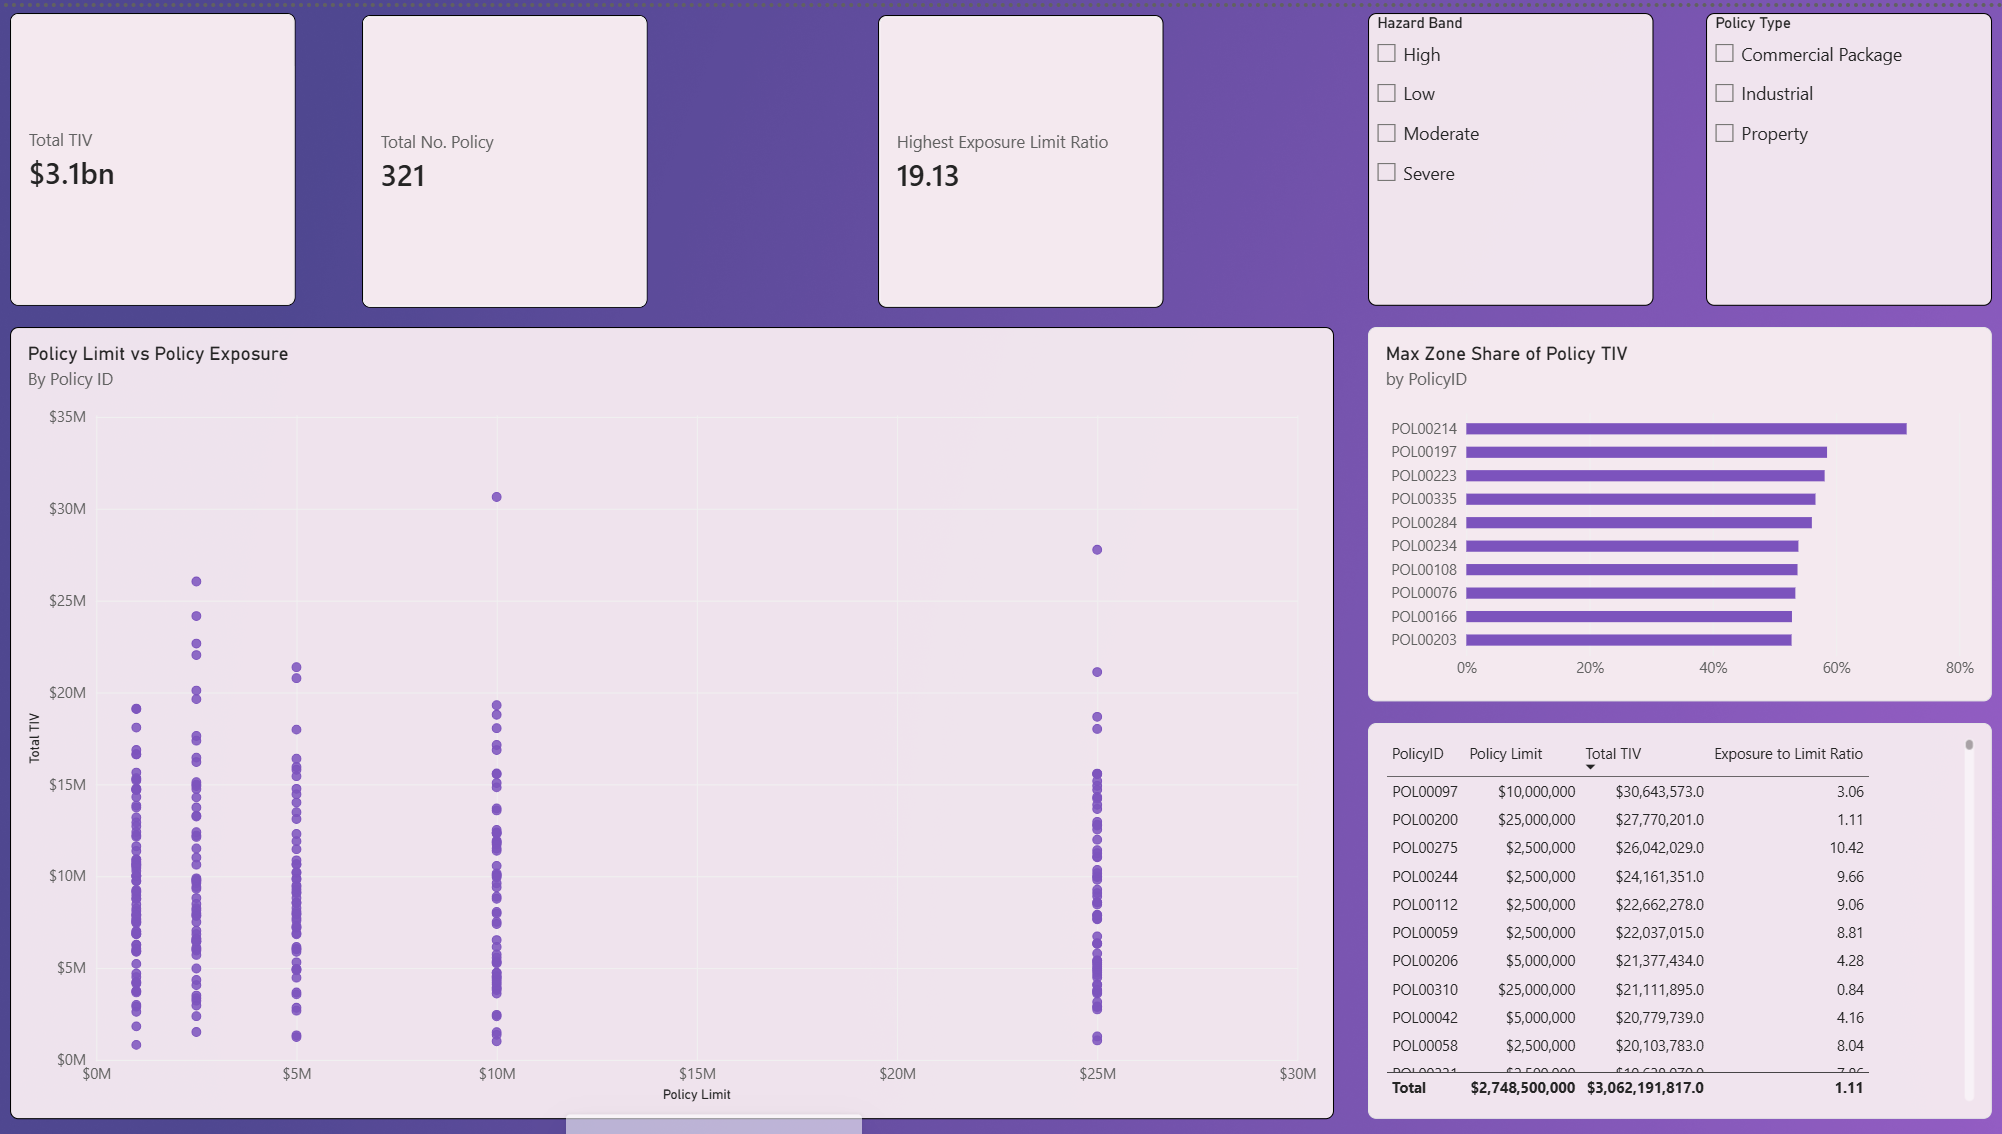

The page's visual inventory and layout, read from the dashboard file:
{"tool":"powerbi","page":{"name":"Concentration and Policy","canvas":[1920,1080],"ordinal":1},"visuals":[{"type":"cardVisual","fields":{"Data":["Exposure.Total TIV"]},"box":[9.6,6.5,273,280],"z":0},{"type":"slicer","fields":{"Values":["Hazard.HazardBand"]},"box":[1308,5.7,273,280],"z":1000},{"type":"scatterChart","title":"Policy Limit vs Policy Exposure","fields":{"X":["Exposure.Policy Limit"],"Y":["Exposure.Total TIV"],"Category":["Policy.PolicyID"]},"box":[9.6,306,1266,757.3],"z":2000},{"type":"tableEx","fields":{"Values":["Policy.PolicyID","Exposure.Policy Limit","Exposure.Total TIV","Exposure.Exposure to Limit Ratio"]},"box":[1308,684.6,596.7,378.6],"z":3000},{"type":"cardVisual","fields":{"Data":["Exposure.Total No. Policy"]},"box":[346.1,7.6,273,280],"z":4000},{"type":"cardVisual","fields":{"Data":["Exposure.Highest Exposure Limit Ratio"]},"box":[839.5,7.6,273,280],"z":5000},{"type":"slicer","fields":{"Values":["Policy.PolicyType"]},"box":[1631.2,5.7,273.3,280.2],"z":6000},{"type":"clusteredBarChart","fields":{"Category":["Exposure.PolicyID"],"Y":["Exposure.Max Zone Share of Policy TIV"]},"box":[1308,306,596.4,358.2],"z":7000}]}

Visuals, with their boxes in screenshot pixels (x1, y1, x2, y2), scaled from the page's 1920x1080 canvas onto the 2002x1134 screenshot:
cardVisual - Exposure.Total TIV: BBox(10, 7, 295, 301)
slicer - Hazard.HazardBand: BBox(1364, 6, 1649, 300)
"Policy Limit vs Policy Exposure" scatterChart: BBox(10, 321, 1330, 1116)
tableEx - Policy.PolicyID x Exposure.Policy Limit: BBox(1364, 719, 1986, 1116)
cardVisual - Exposure.Total No. Policy: BBox(361, 8, 646, 302)
cardVisual - Exposure.Highest Exposure Limit Ratio: BBox(875, 8, 1160, 302)
slicer - Policy.PolicyType: BBox(1701, 6, 1986, 300)
clusteredBarChart - Exposure.PolicyID x Exposure.Max Zone Share of Policy TIV: BBox(1364, 321, 1986, 697)
